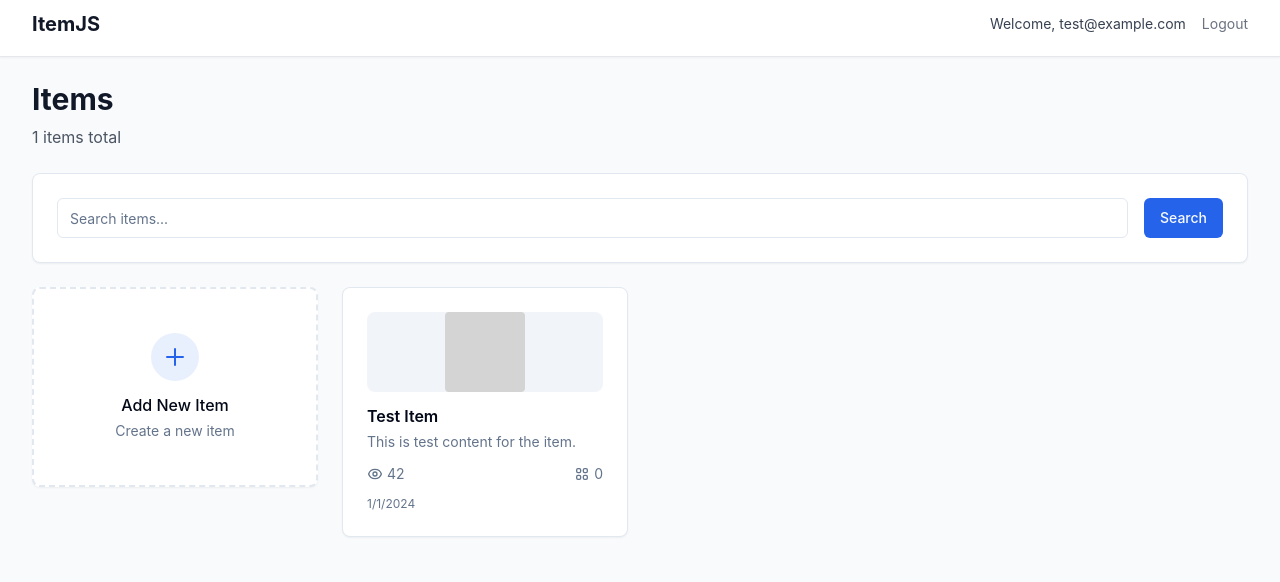
ItemsIndex › clears search when clear button is clicked
# Perform a search first
Type "test query" into the field with placeholder "Search items..." at (592, 218), box [57,198,1128,238]
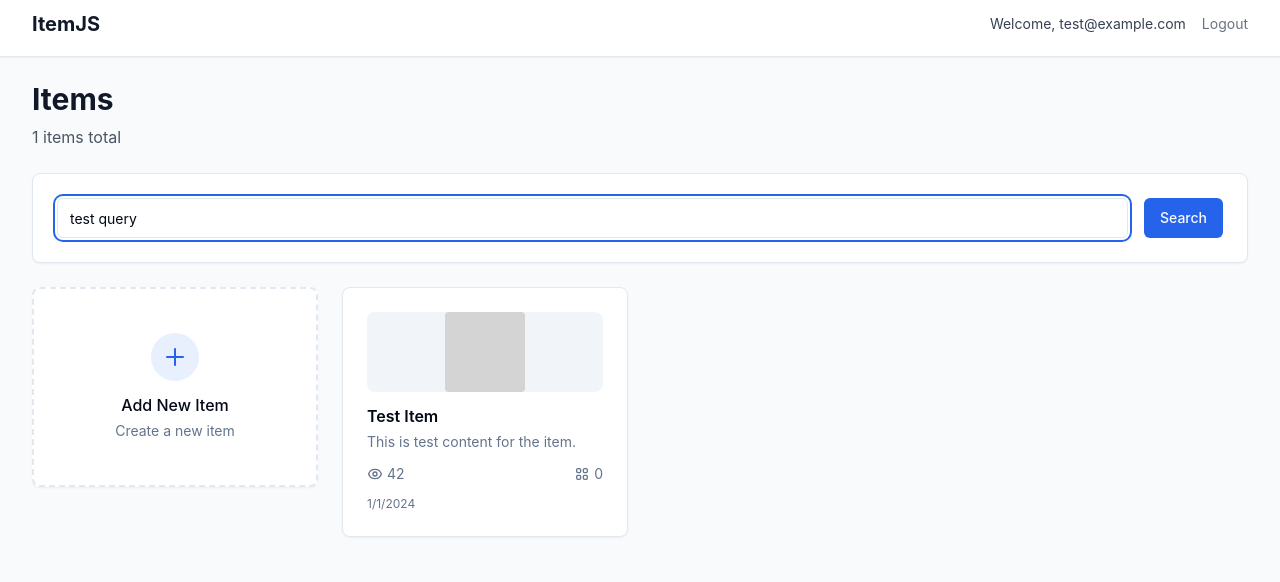
Click the button with aria-label "Submit search" at (1184, 218), box [1144,198,1223,238]
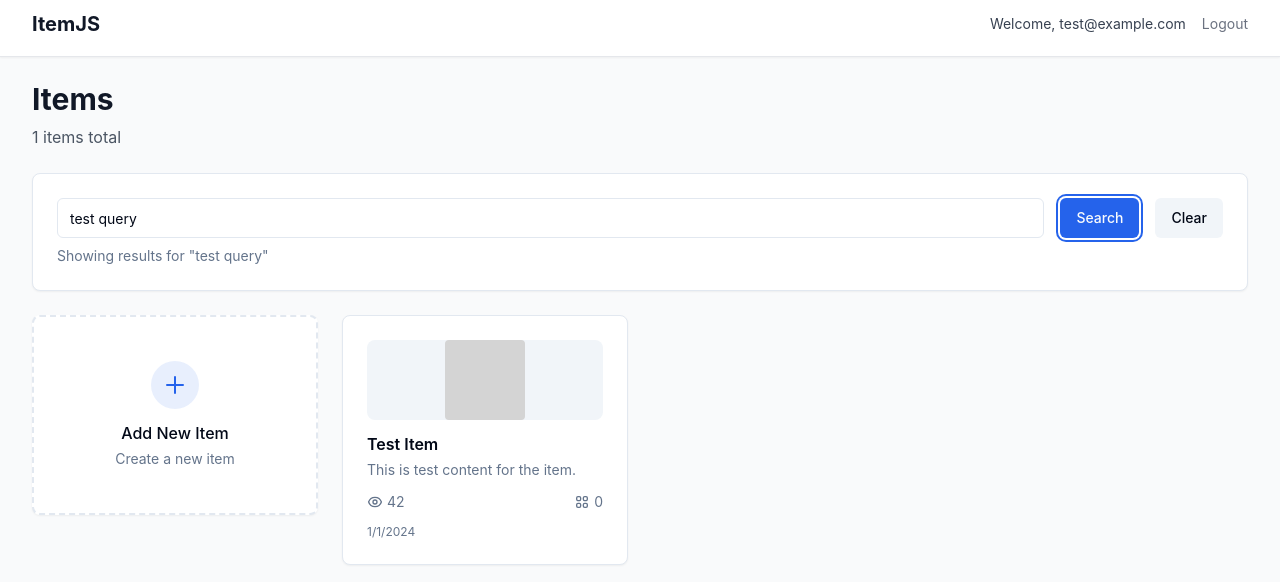
Expected: the button with aria-label "Clear search results" is shown
# Clear the search
Click the button with aria-label "Clear search results" at (1189, 218), box [1156,198,1223,238]
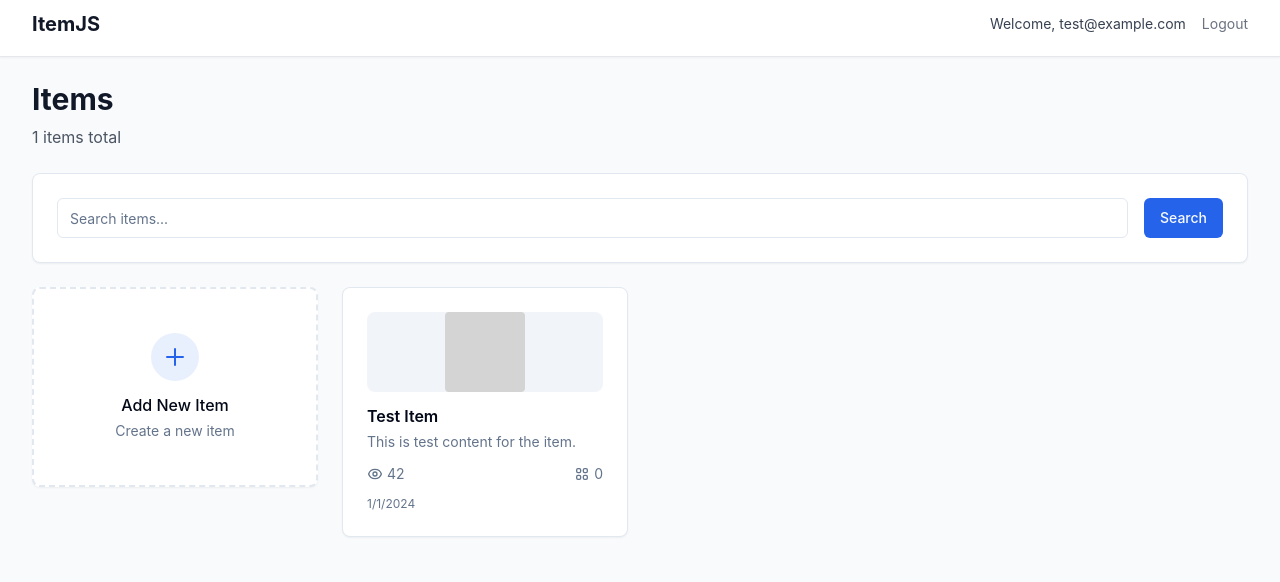
Expected: the field with placeholder "Search items..." is empty, [57,198,1128,238]
Expected: the message "Showing results for \"test query\"" is gone
